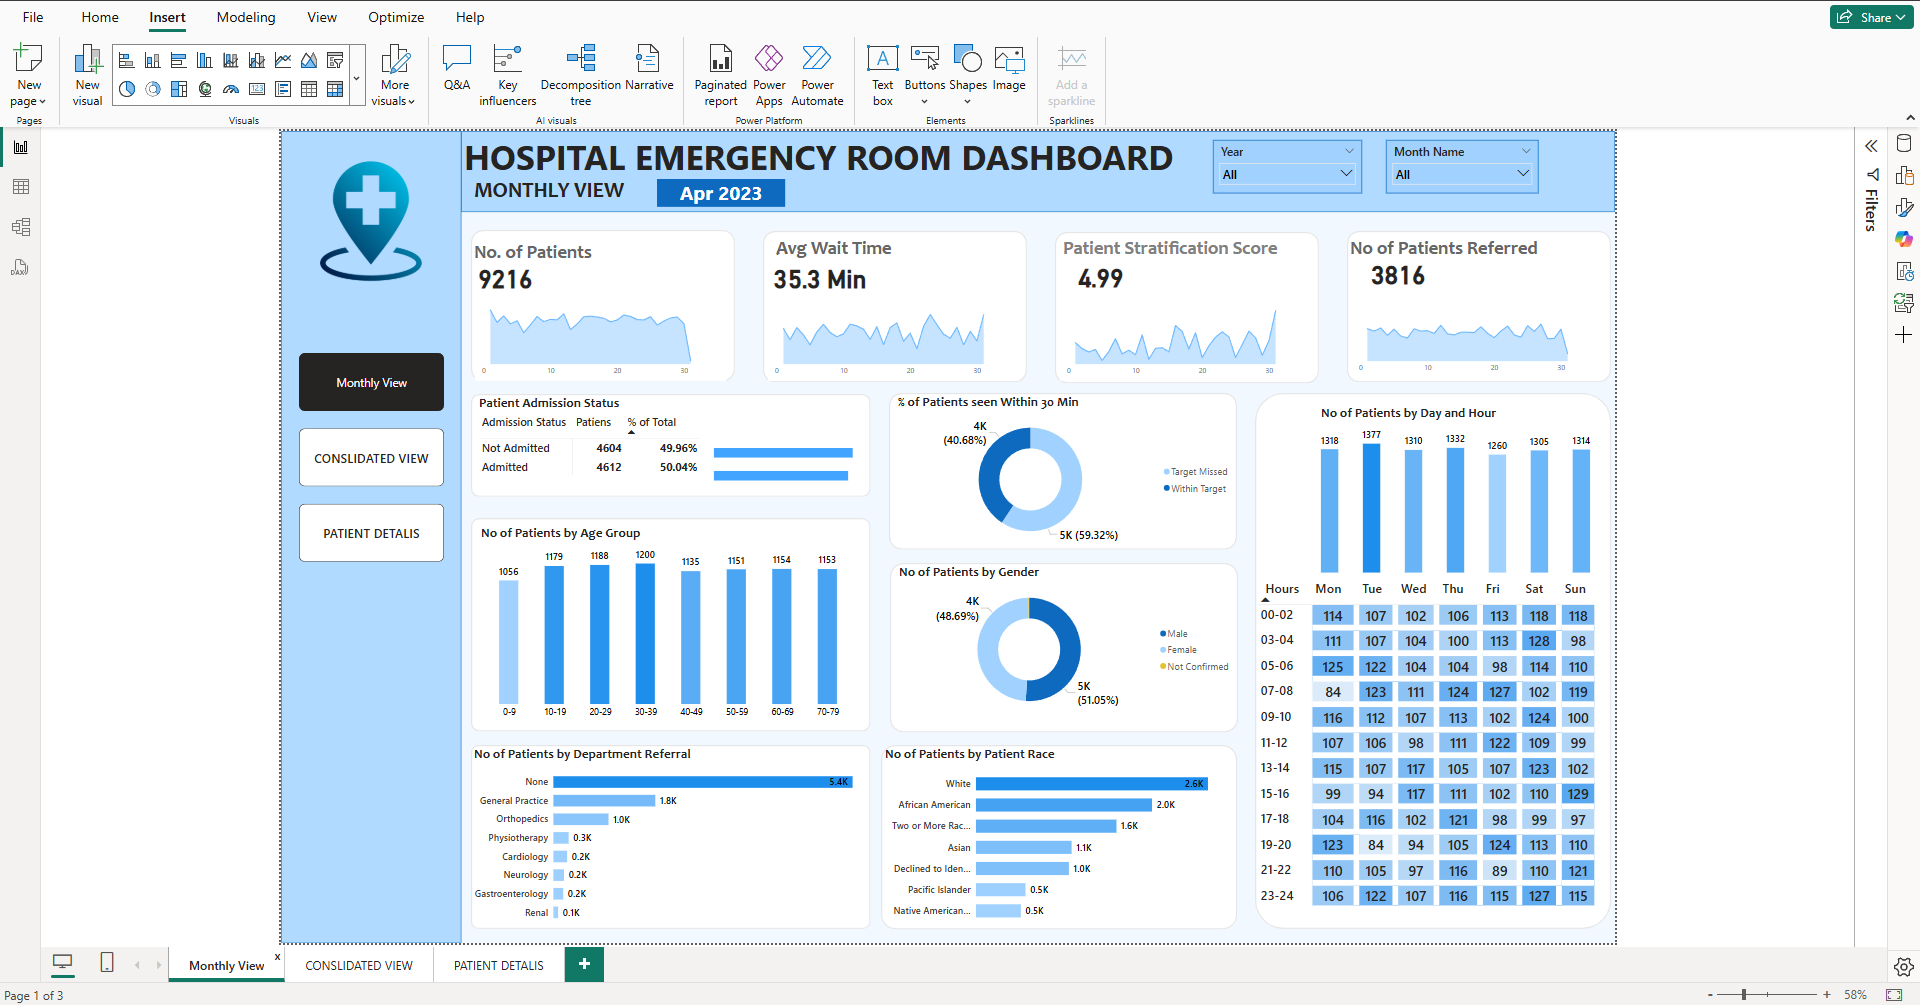

The dashboard page shown, as its layout file describes it:
{"tool":"powerbi","page":{"name":"Monthly View","canvas":[2300,1400],"ordinal":0},"visuals":[{"type":"shape","box":[0,0,311,1400.5],"z":0},{"type":"shape","box":[311,0,1989,139.8],"z":1000},{"type":"textbox","box":[311,0,1239.7,89.7],"z":2000},{"type":"textbox","box":[327.7,73,365.2,71],"z":3000},{"type":"shape","box":[327.7,171.1,455,260.9],"z":4000},{"type":"card","fields":{"Values":["_Meaures.No_Of_Patiens"]},"box":[306.1,211.9,159.4,77.9],"z":5000},{"type":"slicer","fields":{"Values":["Date Table.Year"]},"box":[1606.7,15,256.7,91.7],"z":6000},{"type":"slicer","fields":{"Values":["Date Table.Month Name"]},"box":[1905,15,263.3,91.7],"z":7000},{"type":"textbox","box":[327.8,184.7,273.5,52.5],"z":8000},{"type":"card","fields":{"Values":["Min(Date Table.Month & Year)"]},"box":[649.1,83.5,221.2,48],"z":9000},{"type":"shape","box":[830.8,172.8,455,260.9],"z":10000},{"type":"card","fields":{"Values":["_Meaures.AVG_Wait_Time"]},"box":[842.1,211.9,175.7,77.9],"z":11000},{"type":"textbox","box":[847.6,177.5,273.5,54.3],"z":12000},{"type":"shape","box":[1334,174.7,455,260.9],"z":13000},{"type":"card","fields":{"Values":["_Meaures.Stratification_Score"]},"box":[1334.7,210.1,157.6,77.9],"z":14000},{"type":"textbox","box":[1343.8,177.5,402,54.3],"z":15000},{"type":"shape","box":[1837.1,173,455,260.9],"z":16000},{"type":"card","fields":{"Values":["_Meaures.No of Patient Refferd"]},"box":[1847.2,204.6,159.4,77.9],"z":17000},{"type":"textbox","box":[1838.2,177.5,387.6,54.3],"z":18000},{"type":"areaChart","fields":{"Category":["Date Table.Date.Variation.Date Hierarchy.Day"],"Y":["_Meaures.No of Patient Refferd"]},"box":[1847.2,282.5,432.8,143.1],"z":19000},{"type":"areaChart","fields":{"Category":["Date Table.Date.Variation.Date Hierarchy.Day"],"Y":["_Meaures.Stratification_Score"]},"box":[1343.8,288,432.8,143.1],"z":20000},{"type":"areaChart","fields":{"Y":["_Meaures.No_Of_Patiens"],"Category":["Date Table.Date.Variation.Date Hierarchy.Day"]},"box":[335,288,432.8,143.1],"z":21000},{"type":"shape","box":[327.7,452.9,688.7,177.4],"z":22000},{"type":"areaChart","fields":{"Category":["Date Table.Date.Variation.Date Hierarchy.Day"],"Y":["Avg(Hospital ER_Data.Patient Waittime)"]},"box":[840.3,288,432.8,143.1],"z":23000},{"type":"pivotTable","title":"Patient Admission Status","fields":{"Rows":["Hospital ER_Data.Admission Status"],"Values":["_Meaures.No_Of_Patiens1","_Meaures.No_Of_Patiens"]},"box":[336,452.9,423.7,177.4],"z":24000},{"type":"barChart","fields":{"Category":["Hospital ER_Data.Admission Status"],"Y":["_Meaures.No of Patient Refferd"]},"box":[740.9,513.4,256.7,116.9],"z":25000},{"type":"shape","box":[327.7,667.9,688.7,368],"z":26000},{"type":"clusteredColumnChart","title":"No of Patients by Age Group","fields":{"Category":["Hospital ER_Data.Age Group"],"Y":["_Meaures.No_Of_Patiens"]},"box":[340.2,678.3,657.4,344.4],"z":27000},{"type":"shape","box":[327.7,1058.2,688.7,317.2],"z":28000},{"type":"clusteredBarChart","title":"No of Patients by Department Referral","fields":{"Category":["Hospital ER_Data.Department Referral"],"Y":["_Meaures.No_Of_Patiens"]},"box":[327.7,1058.2,688.7,317.2],"z":29000},{"type":"shape","box":[1048,452,600,270],"z":30000},{"type":"donutChart","title":"% of Patients seen Within 30 Min","fields":{"Category":["Hospital ER_Data.Waittime Status"],"Y":["_Meaures.No_Of_Patiens"]},"box":[1058,452,588,270],"z":31000},{"type":"shape","box":[1050,744,600,292],"z":32000},{"type":"donutChart","title":"No of Patients by Gender","fields":{"Y":["_Meaures.No_Of_Patiens"],"Category":["Hospital ER_Data.Patient Gender"]},"box":[1060,744,588,270],"z":33000},{"type":"shape","box":[1034,1058,614,318],"z":34000},{"type":"clusteredBarChart","title":"No of Patients by Patient Race","fields":{"Y":["_Meaures.No_Of_Patiens"],"Category":["Hospital ER_Data.Patient Race"]},"box":[1036,1058,596,318],"z":35000},{"type":"shape","box":[1680,452,614,924],"z":36000},{"type":"pivotTable","fields":{"Rows":["Hospital ER_Data.waittime Interval"],"Columns":["Date Table.Day Name"],"Values":["_Meaures.No_Of_Patiens"]},"box":[1680,766.7,611.7,608.3],"z":37000},{"type":"columnChart","title":"No of Patients by Day and Hour","fields":{"Category":["Date Table.Day Name"],"Y":["_Meaures.No_Of_Patiens"]},"box":[1788.3,470,476.7,296.7],"z":38000},{"type":"image","box":[46.7,45,216.7,220],"z":39000},{"type":"pageNavigator","box":[30.4,383.3,250.5,360.6],"z":39001}]}

Visuals, with their boxes on the page's 2300x1400 design canvas (x1, y1, x2, y2). These are canvas units, not pixel positions in the 1920x1005 screenshot, which may show the page scaled, cropped or inside an application window:
shape: bbox=[0, 0, 311, 1400]
shape: bbox=[311, 0, 2300, 140]
textbox: bbox=[311, 0, 1551, 90]
textbox: bbox=[328, 73, 693, 144]
shape: bbox=[328, 171, 783, 432]
card - _Meaures.No_Of_Patiens: bbox=[306, 212, 466, 290]
slicer - Date Table.Year: bbox=[1607, 15, 1863, 107]
slicer - Date Table.Month Name: bbox=[1905, 15, 2168, 107]
textbox: bbox=[328, 185, 601, 237]
card - Min(Date Table.Month & Year): bbox=[649, 84, 870, 132]
shape: bbox=[831, 173, 1286, 434]
card - _Meaures.AVG_Wait_Time: bbox=[842, 212, 1018, 290]
textbox: bbox=[848, 178, 1121, 232]
shape: bbox=[1334, 175, 1789, 436]
card - _Meaures.Stratification_Score: bbox=[1335, 210, 1492, 288]
textbox: bbox=[1344, 178, 1746, 232]
shape: bbox=[1837, 173, 2292, 434]
card - _Meaures.No of Patient Refferd: bbox=[1847, 205, 2007, 282]
textbox: bbox=[1838, 178, 2226, 232]
areaChart - Date Table.Date.Variation.Date Hierarchy.Day x _Meaures.No of Patient Refferd: bbox=[1847, 282, 2280, 426]
areaChart - Date Table.Date.Variation.Date Hierarchy.Day x _Meaures.Stratification_Score: bbox=[1344, 288, 1777, 431]
areaChart - _Meaures.No_Of_Patiens x Date Table.Date.Variation.Date Hierarchy.Day: bbox=[335, 288, 768, 431]
shape: bbox=[328, 453, 1016, 630]
areaChart - Date Table.Date.Variation.Date Hierarchy.Day x Avg(Hospital ER_Data.Patient Waittime): bbox=[840, 288, 1273, 431]
"Patient Admission Status" pivotTable: bbox=[336, 453, 760, 630]
barChart - Hospital ER_Data.Admission Status x _Meaures.No of Patient Refferd: bbox=[741, 513, 998, 630]
shape: bbox=[328, 668, 1016, 1036]
"No of Patients by Age Group" clusteredColumnChart: bbox=[340, 678, 998, 1023]
shape: bbox=[328, 1058, 1016, 1375]
"No of Patients by Department Referral" clusteredBarChart: bbox=[328, 1058, 1016, 1375]
shape: bbox=[1048, 452, 1648, 722]
"% of Patients seen Within 30 Min" donutChart: bbox=[1058, 452, 1646, 722]
shape: bbox=[1050, 744, 1650, 1036]
"No of Patients by Gender" donutChart: bbox=[1060, 744, 1648, 1014]
shape: bbox=[1034, 1058, 1648, 1376]
"No of Patients by Patient Race" clusteredBarChart: bbox=[1036, 1058, 1632, 1376]
shape: bbox=[1680, 452, 2294, 1376]
pivotTable - Hospital ER_Data.waittime Interval x Date Table.Day Name: bbox=[1680, 767, 2292, 1375]
"No of Patients by Day and Hour" columnChart: bbox=[1788, 470, 2265, 767]
image: bbox=[47, 45, 263, 265]
pageNavigator: bbox=[30, 383, 281, 744]
